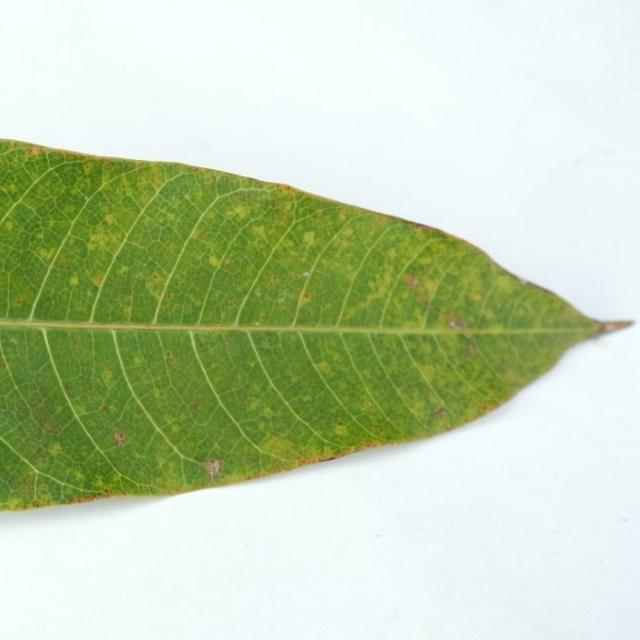Mango: (0, 140, 623, 509)
Powdery_Mildew: (133, 269, 205, 317), (91, 206, 128, 251), (23, 400, 64, 440), (403, 277, 435, 309), (142, 277, 172, 308), (262, 435, 295, 455), (203, 458, 223, 481), (90, 476, 117, 493), (87, 271, 107, 289), (4, 495, 27, 510), (229, 203, 250, 219), (444, 314, 466, 329), (164, 348, 180, 367), (403, 273, 421, 289), (36, 246, 55, 261), (319, 442, 337, 456), (35, 493, 54, 506), (113, 429, 126, 447), (47, 442, 63, 456), (119, 294, 134, 308), (101, 367, 114, 383), (208, 254, 222, 268), (302, 230, 316, 244), (247, 399, 261, 411), (27, 147, 43, 157), (266, 274, 279, 286), (254, 226, 267, 238), (434, 407, 447, 419), (116, 265, 130, 276), (334, 425, 348, 436), (68, 274, 80, 286), (103, 214, 116, 225), (317, 363, 330, 374), (262, 407, 275, 418), (342, 227, 354, 238), (73, 470, 85, 481), (466, 343, 476, 356), (121, 306, 132, 317), (150, 388, 161, 399), (281, 184, 296, 192), (3, 220, 13, 231), (170, 424, 181, 434), (83, 163, 93, 173), (190, 403, 201, 412), (165, 350, 174, 360), (100, 404, 110, 413), (223, 338, 232, 348), (166, 212, 175, 221), (301, 292, 310, 301), (335, 422, 346, 429), (152, 273, 161, 281), (277, 297, 286, 304), (15, 298, 23, 305), (342, 311, 349, 318), (254, 321, 260, 326)
